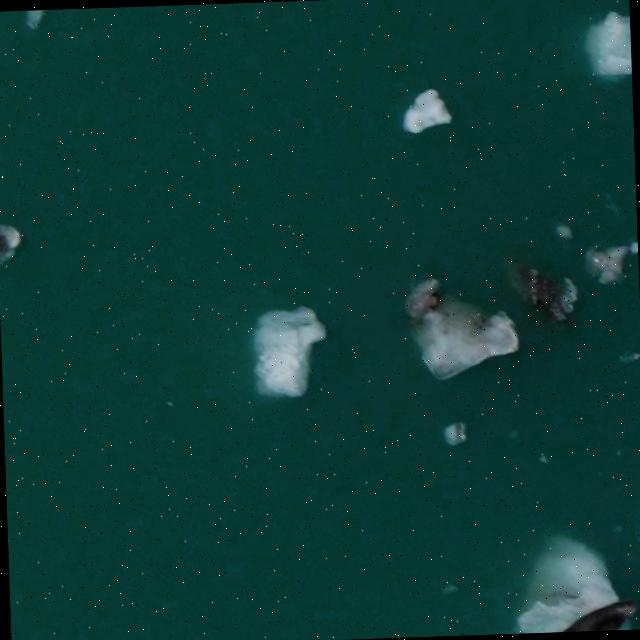seal: (559, 601, 636, 632)
